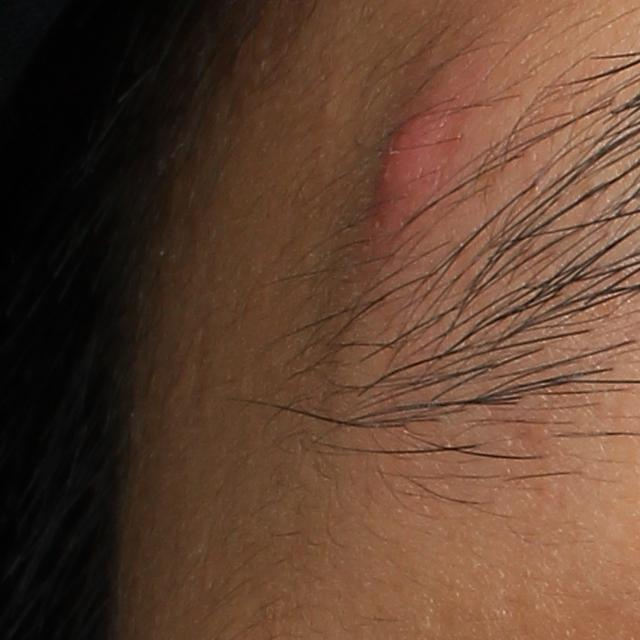nodule: (366, 92, 451, 257)
